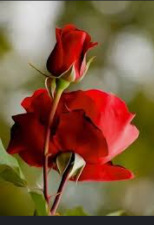RedRose: (6, 89, 144, 184), (43, 19, 98, 87)
